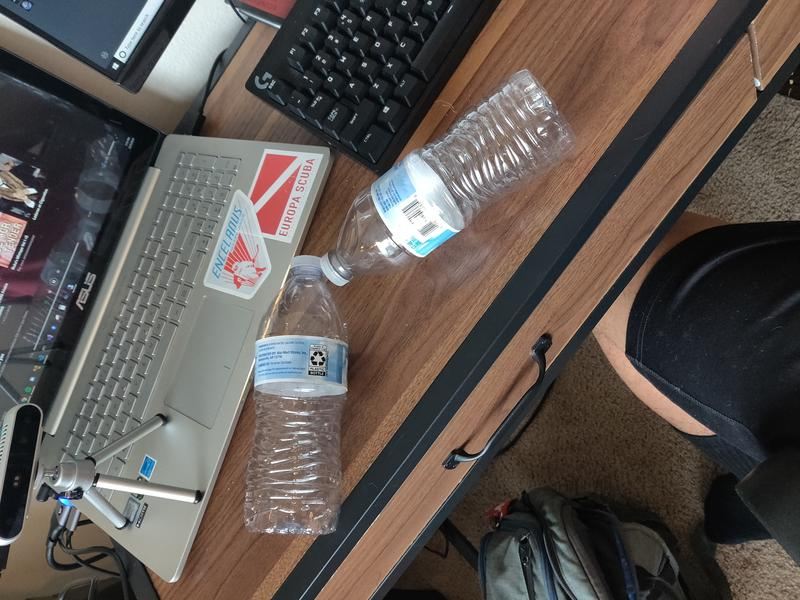bottle: (320, 69, 578, 285), (244, 256, 350, 536)
